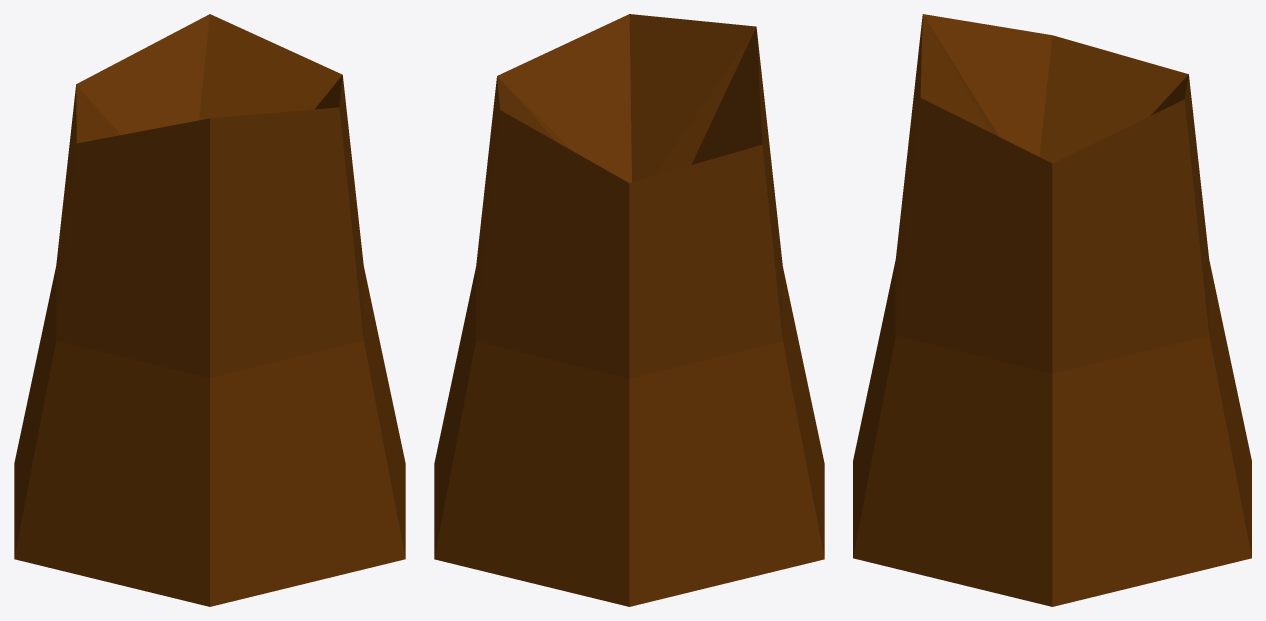
Rendered from Tree_Stump.dae.
The picture shows the model from 3 angles, left to right: view 1: azimuth 30°, elevation 25°; view 2: azimuth 150°, elevation 25°; view 3: azimuth 270°, elevation 25°; orthographic projection. The views are drawn at different scales.
Visible parts, largest first — view 1: SketchUp; view 2: SketchUp; view 3: SketchUp.
Part boxes in pixels (x1,y1,x2,y2): SketchUp: [14, 14, 405, 606]; SketchUp: [434, 14, 824, 606]; SketchUp: [853, 14, 1251, 606].
Size of the model in its own units: 31.5 by 27.28 by 35.01.
